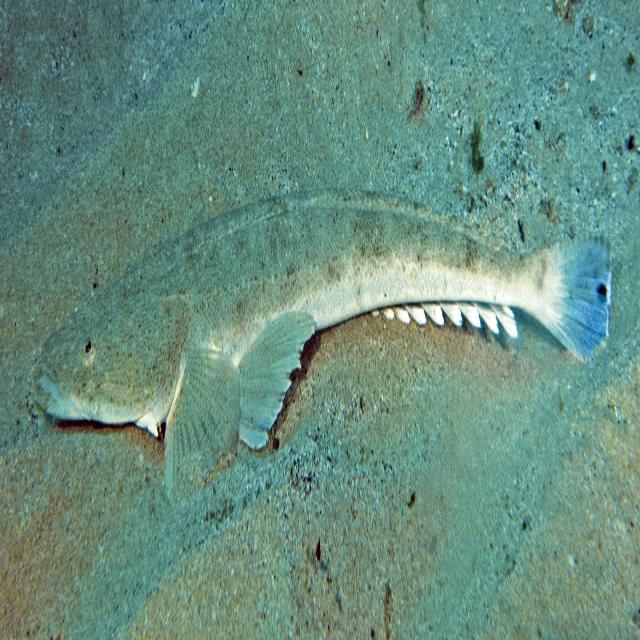Flathead: (22, 167, 618, 510)
